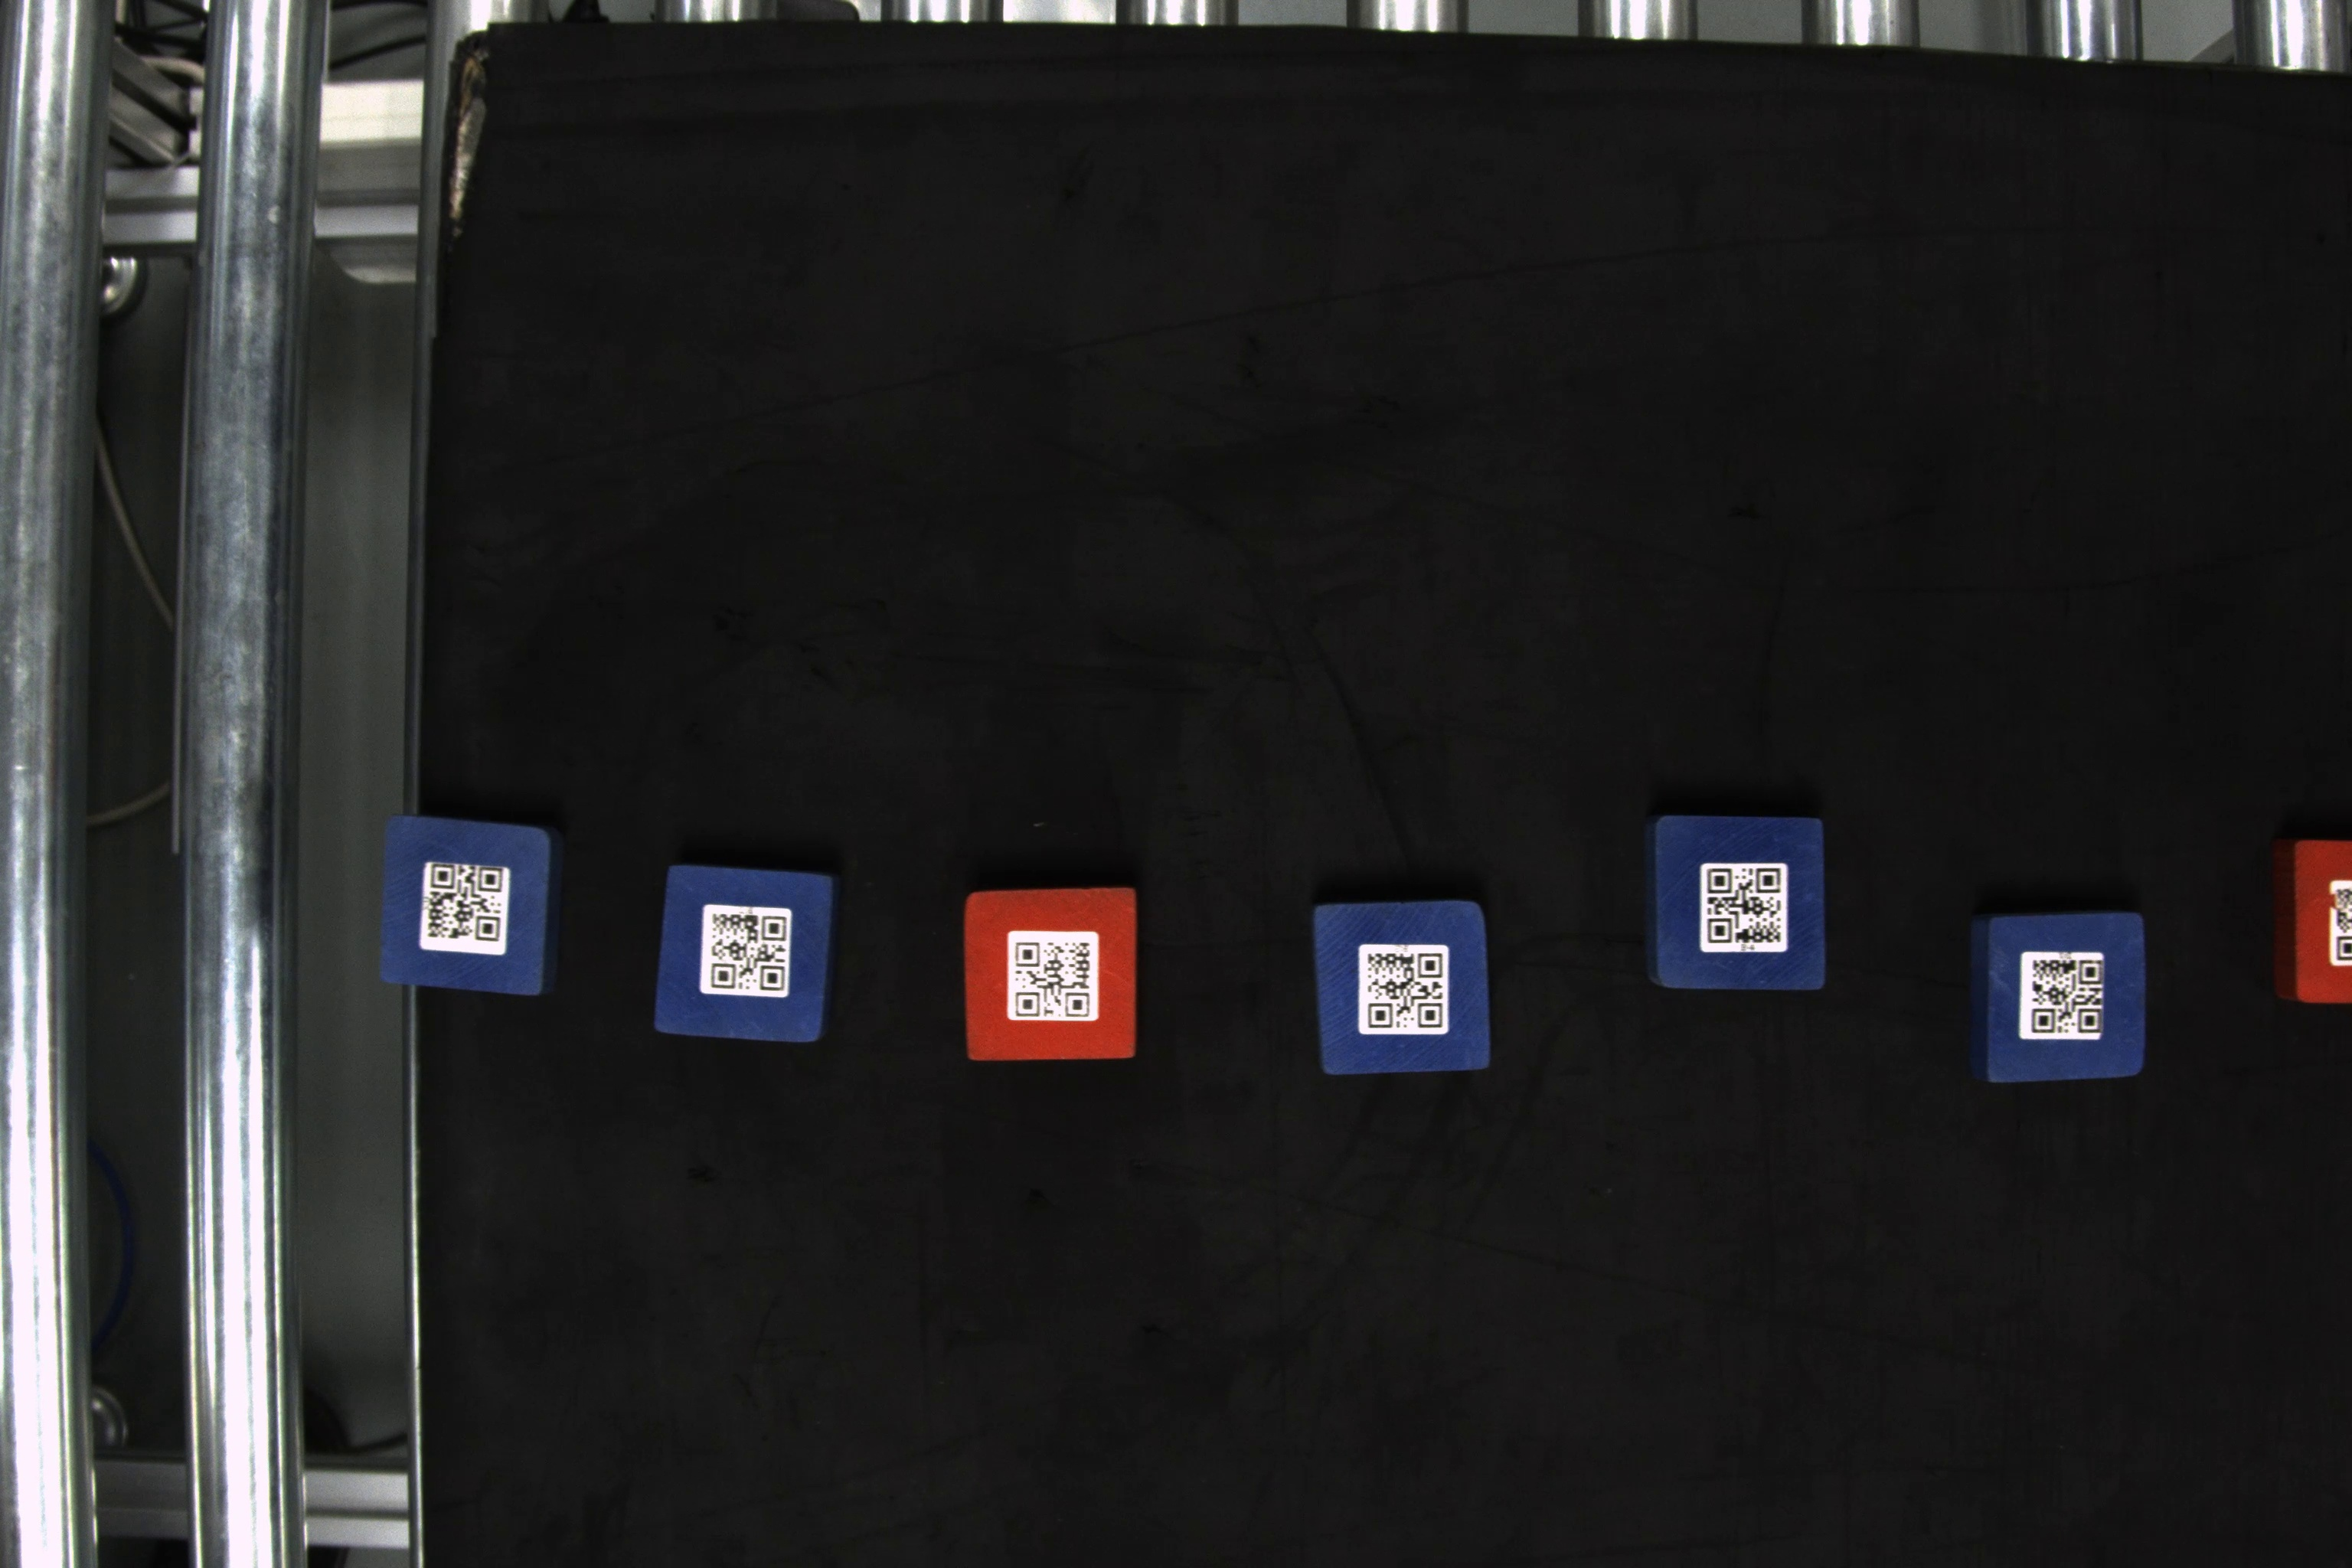wood: (371, 815, 565, 1003), (1309, 898, 1496, 1081), (1648, 814, 1832, 1001), (653, 864, 838, 1048), (1962, 912, 2154, 1087), (961, 885, 1144, 1066), (2268, 833, 2348, 1011)
